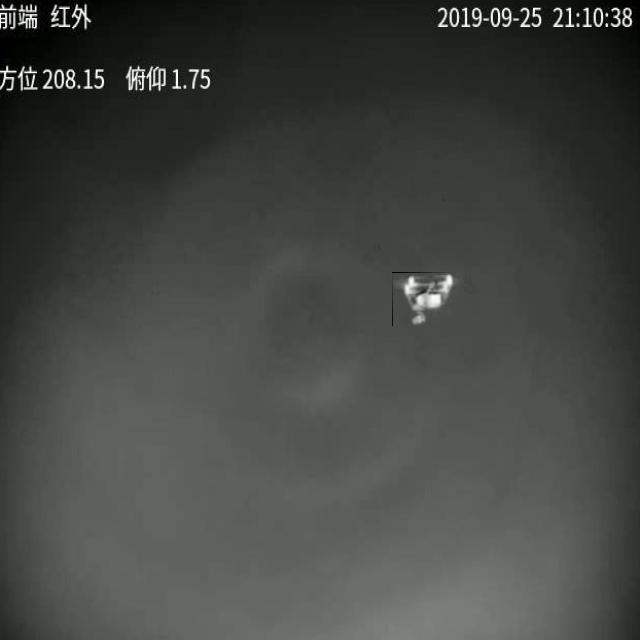drone: (392, 272, 461, 326)
